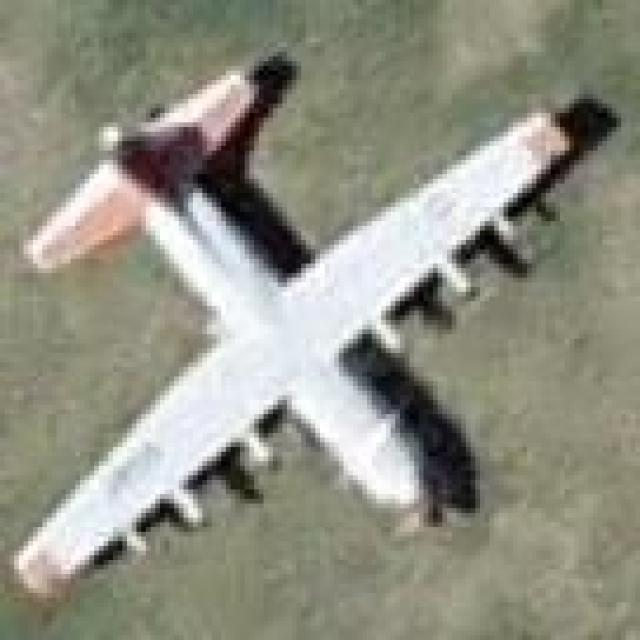C-130_TopDown: (2, 48, 625, 611)
